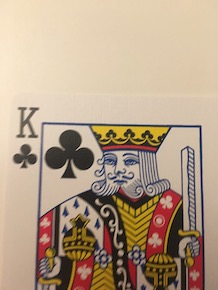KingOfClubs: (4, 86, 218, 289)
